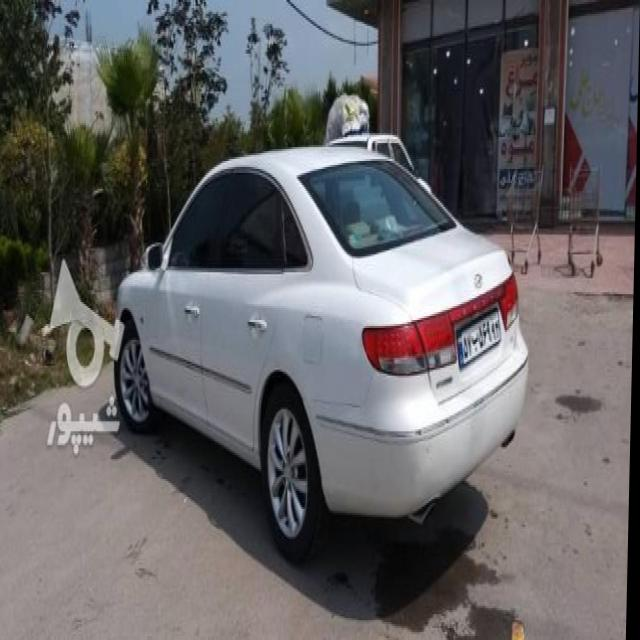licence: (459, 306, 503, 366)
